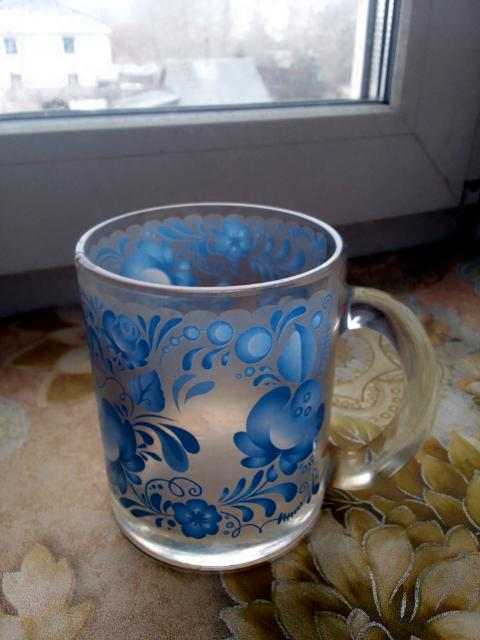Cup: (77, 203, 437, 568)
